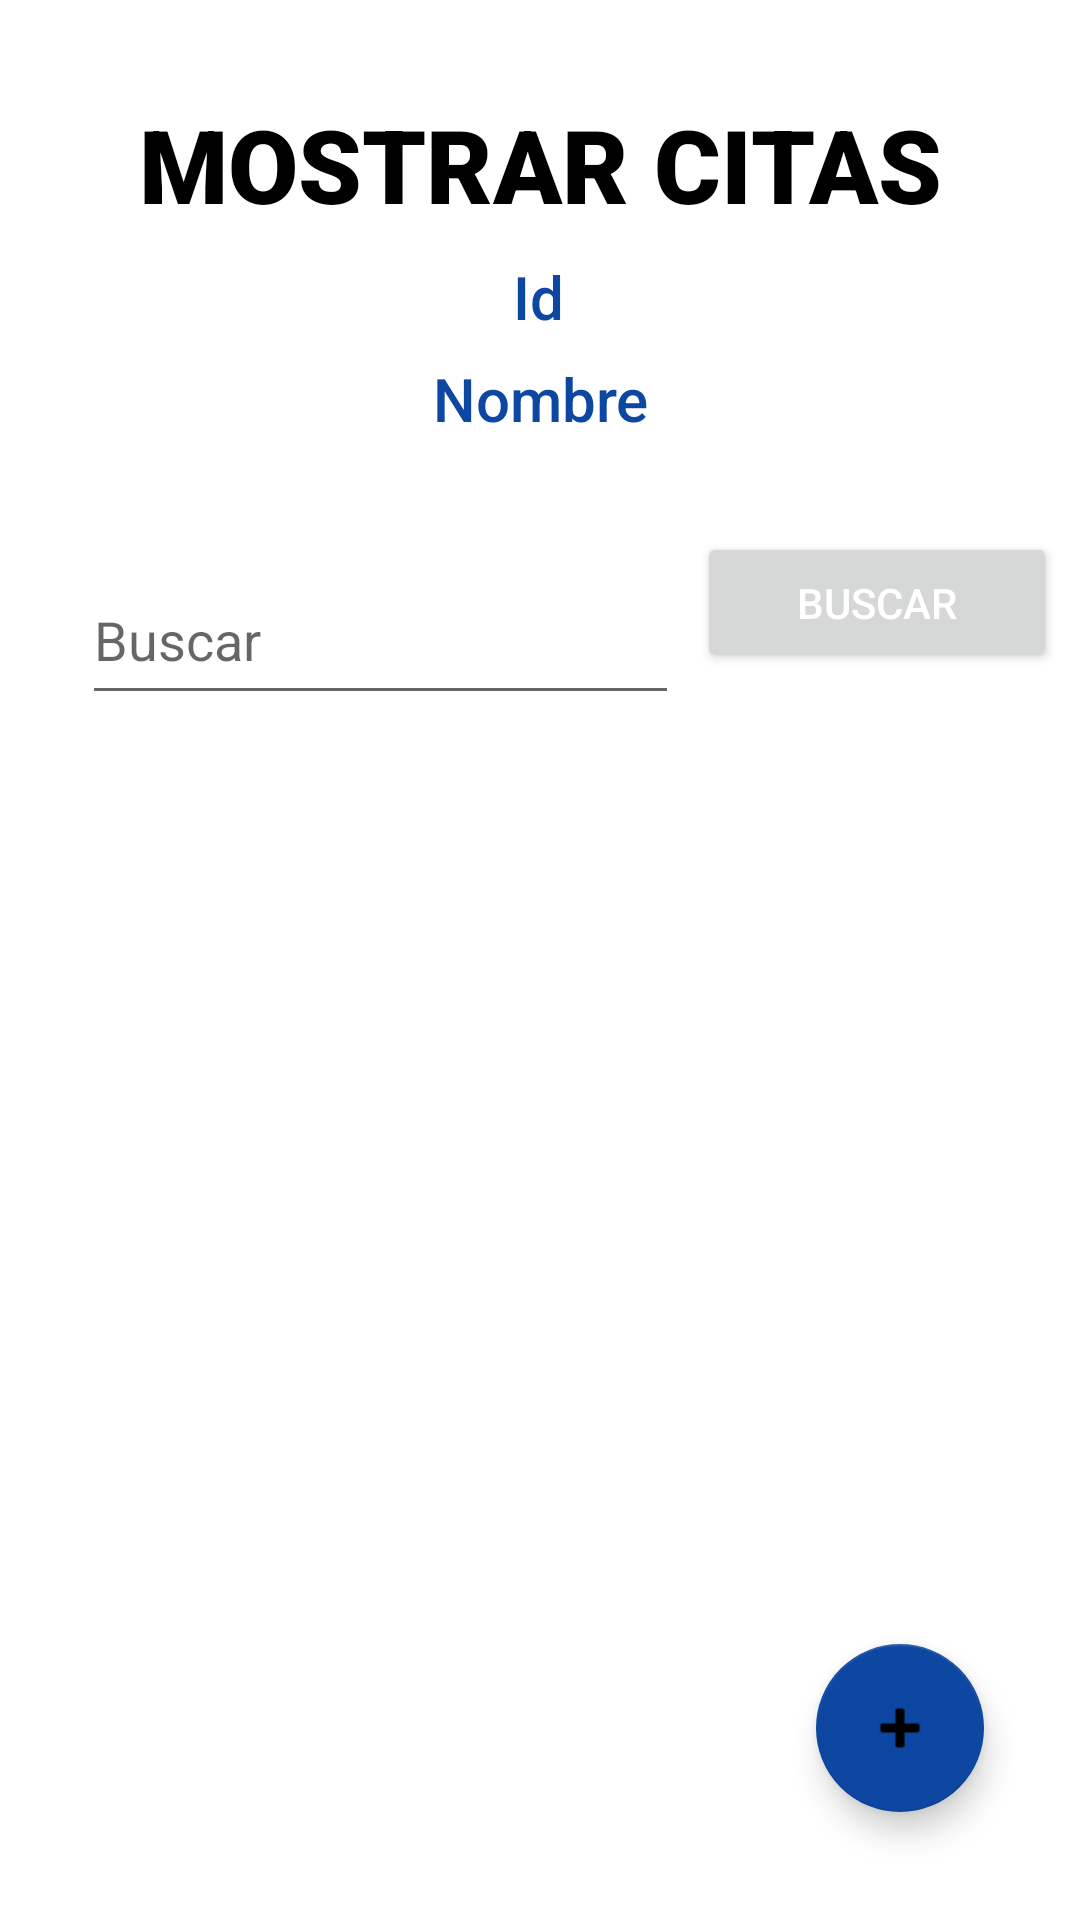

Point at icon controls on the screen. Image size 1080 × 1920, points as (x=x, y=y).
add: (x=900, y=1728)
